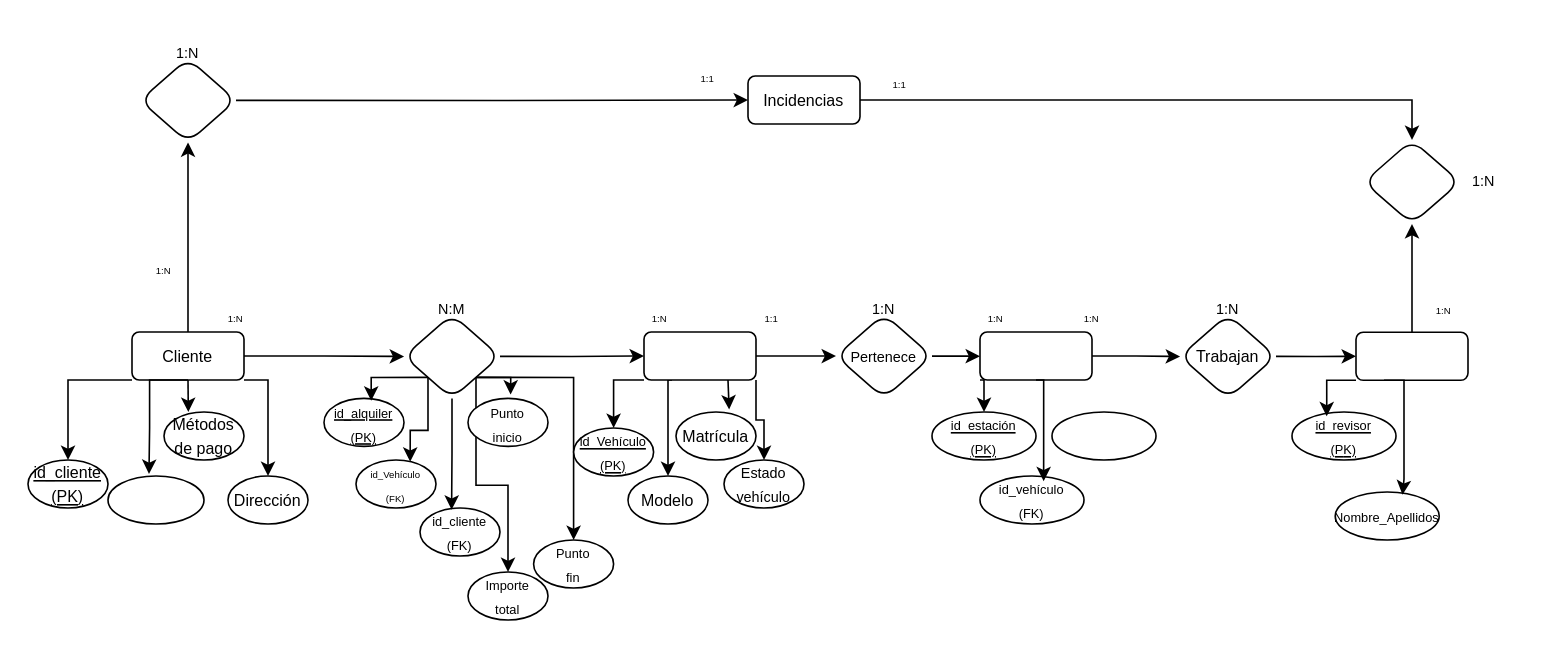
Image size: 1560x648. Some labels were removed from this diagram. The shapes that lost their labels are listed below. From the top down, each one's centre as x and y in pixels, then its label:
At [187,99]: "Reporta".
At [1411,181]: "Gestionan".
At [451,355]: "Alquiler".
At [699,355]: "Vehículo".
At [1035,355]: "Estacion carga".
At [1411,355]: "Revisores".
At [1103,435]: "Estado_vehículo".
At [155,499]: "Nombre y apellidos".
